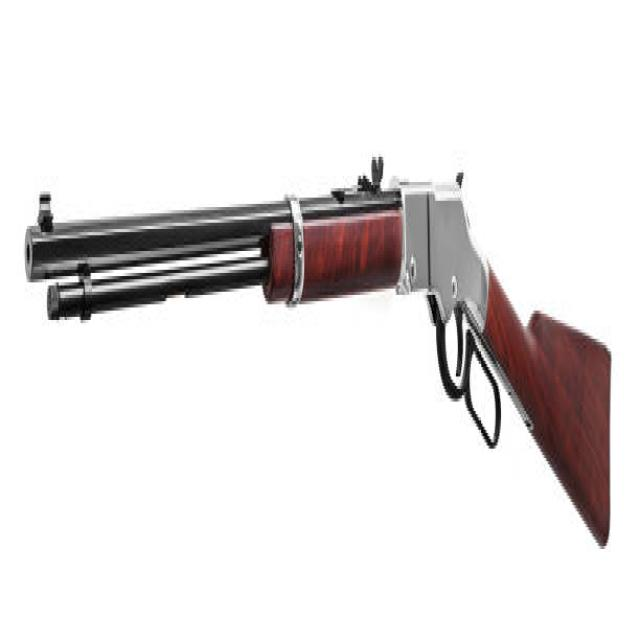rifle: (17, 132, 620, 573)
